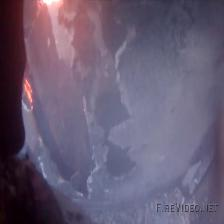fire: (20, 73, 41, 119)
